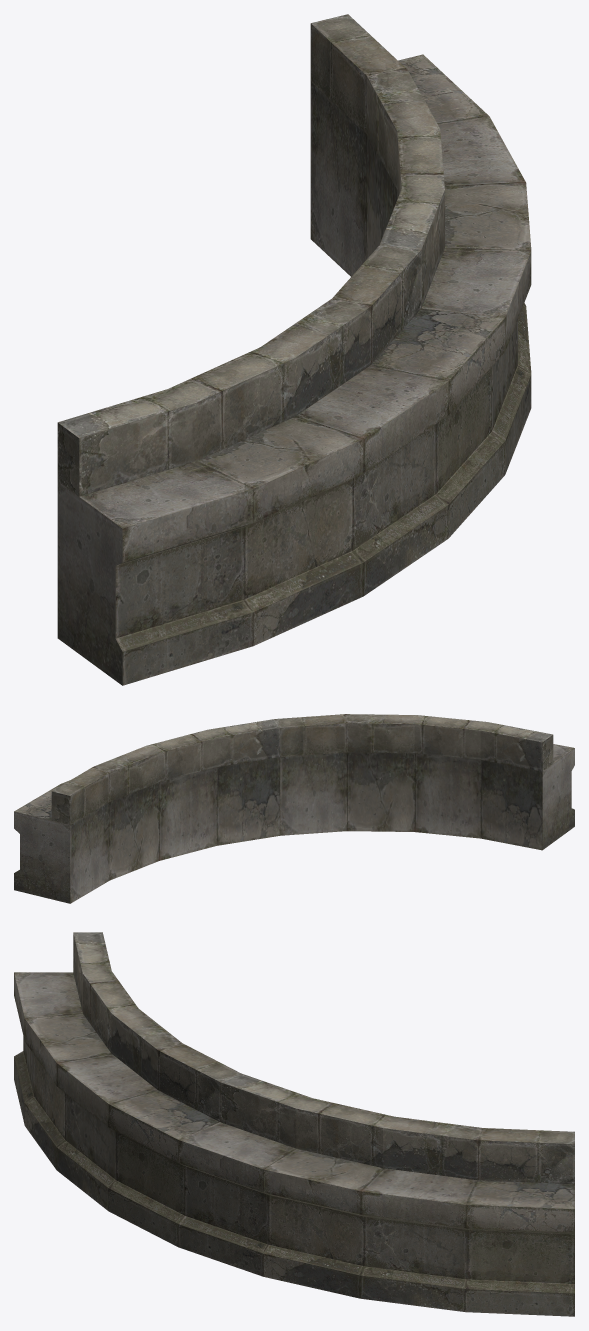
Rendered from bg_lut_lutomb_floor01b_sm_khk.FBX.
The picture shows the model from 3 angles, top to bottom: view 1: azimuth 30°, elevation 25°; view 2: azimuth 150°, elevation 25°; view 3: azimuth 270°, elevation 25°; orthographic projection. The views are drawn at different scales.
Parts seen in each view (by area): view 1: bg_lut_lutomb_floor01b_sm_khk; view 2: bg_lut_lutomb_floor01b_sm_khk; view 3: bg_lut_lutomb_floor01b_sm_khk.
Part boxes in pixels (<box>): bg_lut_lutomb_floor01b_sm_khk: <box>57,14,531,685</box>; bg_lut_lutomb_floor01b_sm_khk: <box>14,714,574,903</box>; bg_lut_lutomb_floor01b_sm_khk: <box>14,932,574,1316</box>.
Bounding box in the file's own units: 608 × 176 × 608.
